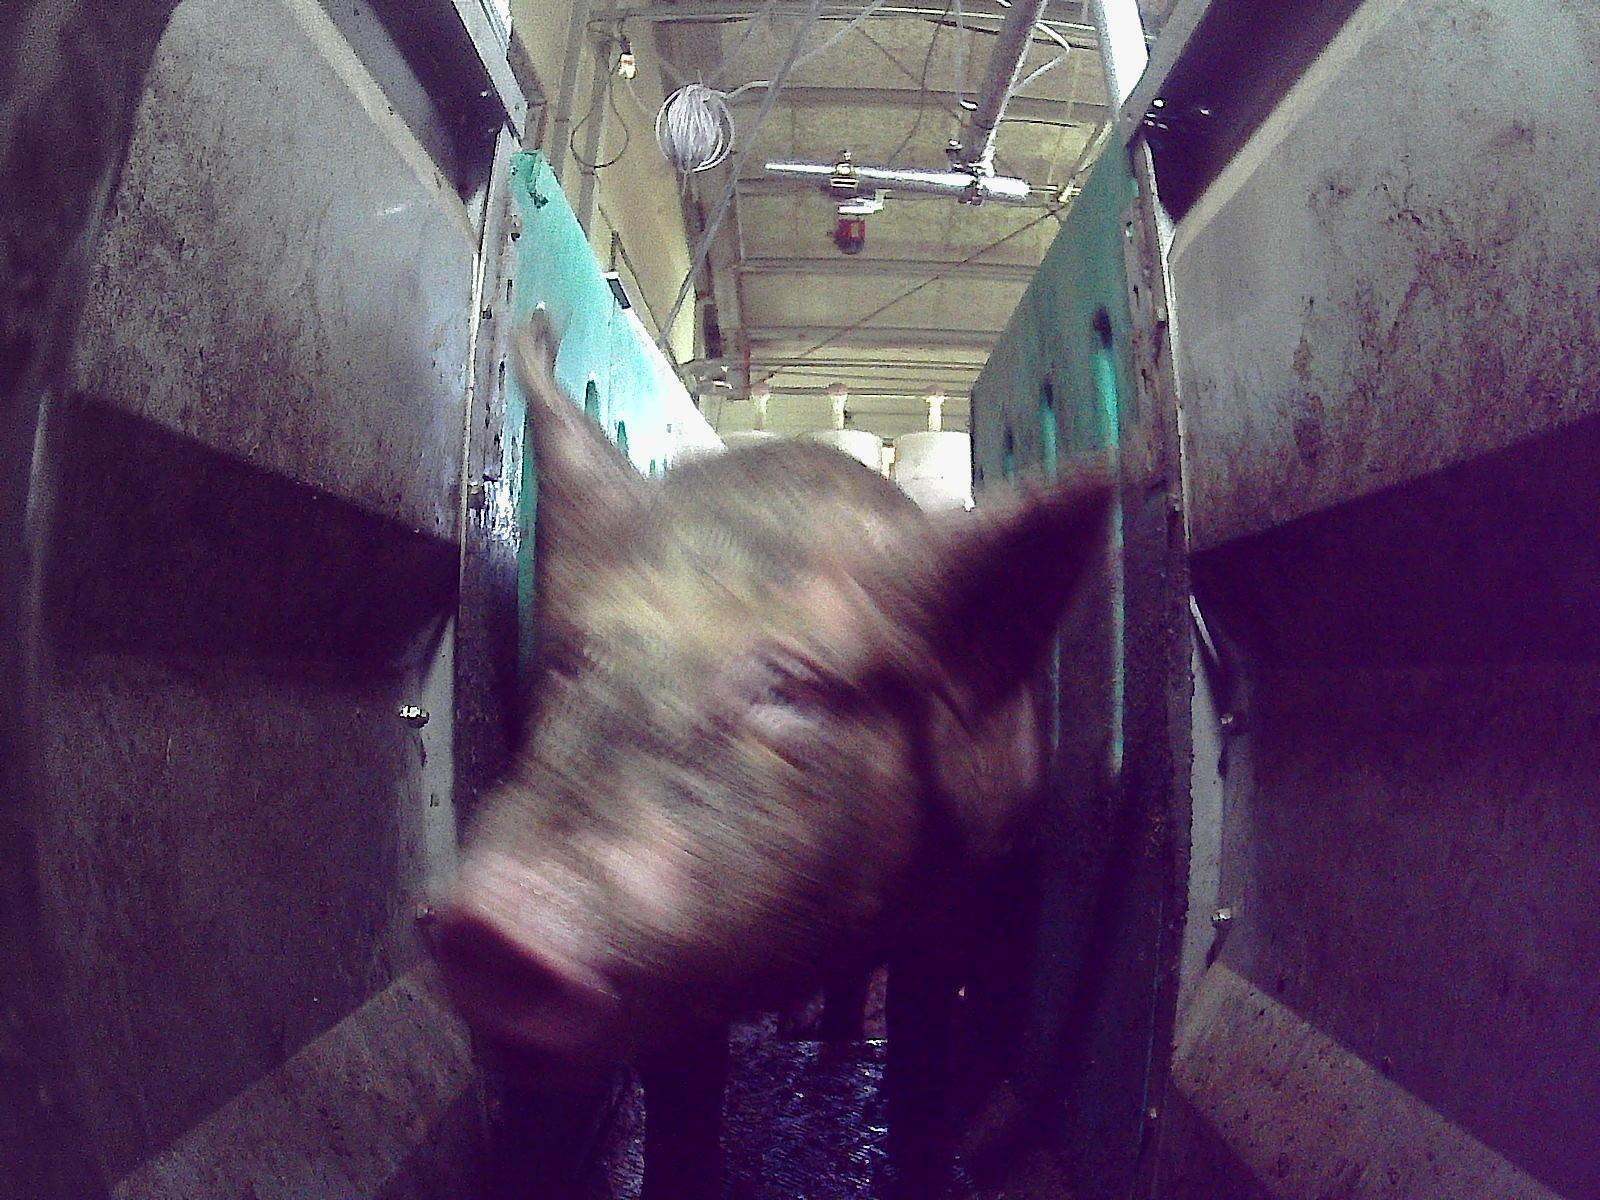Face: (422, 481, 915, 1070)
